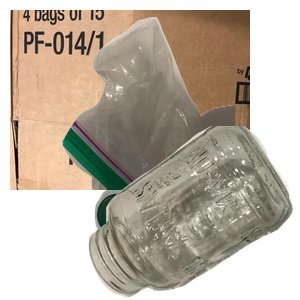cardboard: (10, 10, 250, 190)
glass: (86, 126, 300, 300)
plastic: (92, 176, 257, 300)
trash: (60, 14, 300, 194)
